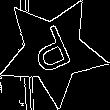P_SE: (26, 21, 80, 82)
